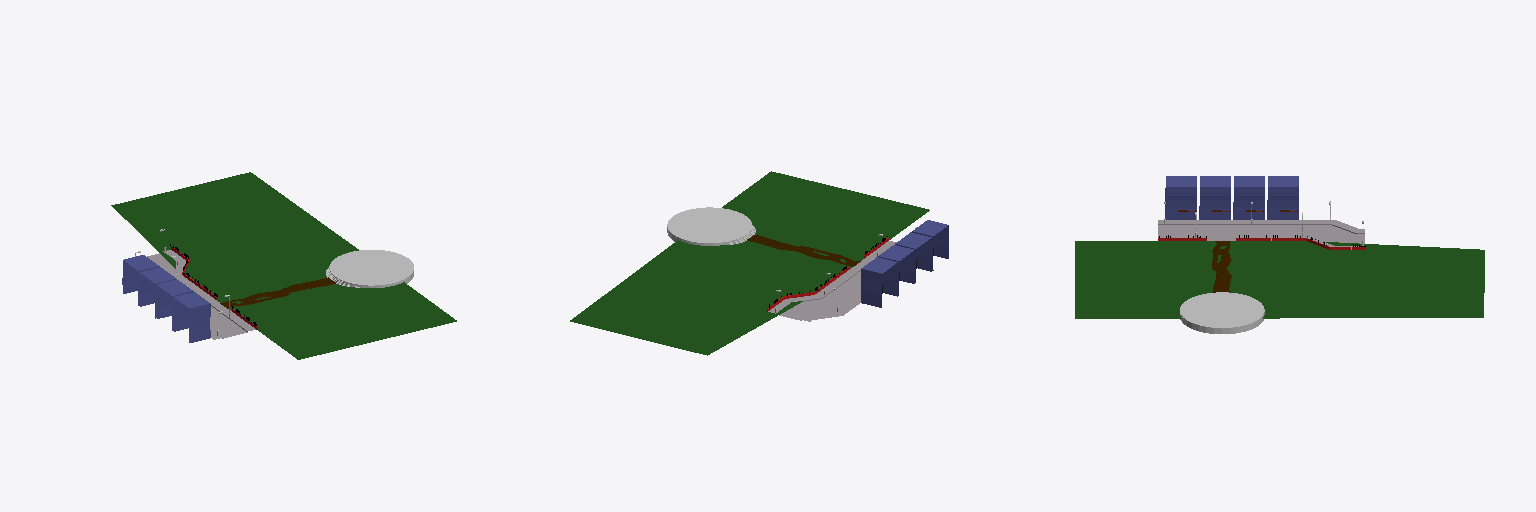
The model's file is Road.obj.
The picture shows the model from 3 angles: view 1: azimuth 30°, elevation 25°; view 2: azimuth 150°, elevation 25°; view 3: azimuth 270°, elevation 25°; orthographic projection.
Visible parts, largest first — view 1: Grass_Plane.005, BandStand_Cylinder.001, SBend_Plane, Building_Cube.001, Building.001_Cube.001, Building.003_Cube.001, Building.002_Cube.001, DirtPath_Plane.006; view 2: Grass_Plane.005, BandStand_Cylinder.001, SBend_Plane, Building.003_Cube.001, Building_Cube.001, Building.001_Cube.001, Building.002_Cube.001, DirtPath_Plane.006; view 3: Grass_Plane.005, SBend_Plane, BandStand_Cylinder.001, Building.003_Cube.001, Building_Cube.001, Building.001_Cube.001, Building.002_Cube.001, DirtPath_Plane.006.
Part boxes in pixels (left/top/right/bottom): Grass_Plane.005: left=111, top=172, right=456, bottom=359; BandStand_Cylinder.001: left=326, top=250, right=413, bottom=287; SBend_Plane: left=147, top=250, right=255, bottom=339; Building_Cube.001: left=173, top=292, right=210, bottom=342; Building.001_Cube.001: left=156, top=280, right=193, bottom=330; Building.003_Cube.001: left=122, top=255, right=159, bottom=305; Building.002_Cube.001: left=139, top=267, right=176, bottom=318; DirtPath_Plane.006: left=220, top=277, right=335, bottom=308; Grass_Plane.005: left=570, top=171, right=929, bottom=355; BandStand_Cylinder.001: left=667, top=207, right=755, bottom=245; SBend_Plane: left=768, top=241, right=896, bottom=321; Building.003_Cube.001: left=861, top=257, right=897, bottom=307; Building_Cube.001: left=912, top=220, right=948, bottom=270; Building.001_Cube.001: left=895, top=232, right=931, bottom=282; Building.002_Cube.001: left=878, top=245, right=914, bottom=295; DirtPath_Plane.006: left=747, top=235, right=860, bottom=266; Grass_Plane.005: left=1075, top=241, right=1484, bottom=318; SBend_Plane: left=1158, top=220, right=1364, bottom=249; BandStand_Cylinder.001: left=1180, top=292, right=1264, bottom=333; Building.003_Cube.001: left=1267, top=176, right=1298, bottom=219; Building_Cube.001: left=1165, top=176, right=1196, bottom=219; Building.001_Cube.001: left=1199, top=176, right=1230, bottom=219; Building.002_Cube.001: left=1233, top=176, right=1264, bottom=219; DirtPath_Plane.006: left=1212, top=241, right=1231, bottom=292.
Bounding box in the file's own units: 81.58 × 12.21 × 117.